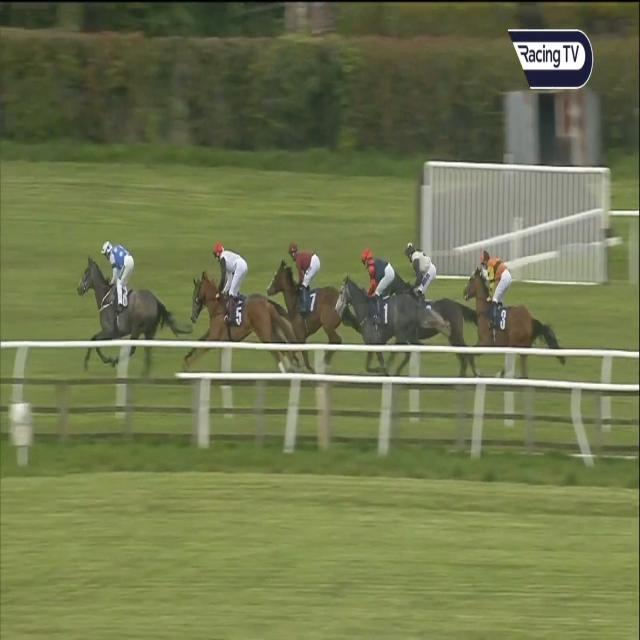horses-racing: (187, 241, 283, 395), (75, 241, 166, 388), (461, 246, 555, 388), (338, 245, 421, 389), (268, 245, 344, 366), (397, 241, 467, 350)
